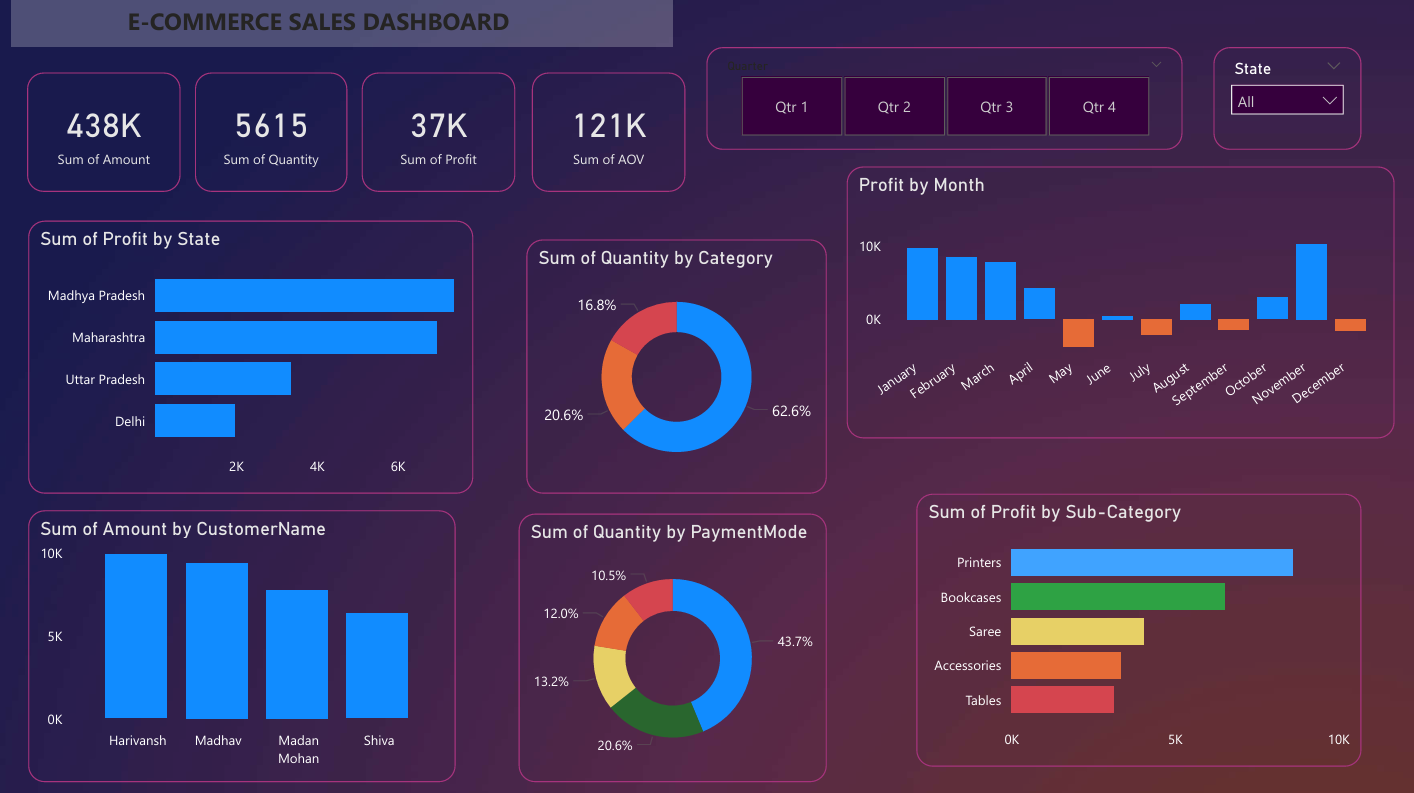

This screenshot's page, from the dashboard's own definition file:
{"tool":"powerbi","page":{"name":"Page 1","canvas":[1280,720],"ordinal":0},"visuals":[{"type":"textbox","box":[9.6,0,599.7,42.5],"z":0},{"type":"columnChart","title":"Profit by Month","fields":{"Y":["Details.Profit"],"Category":["Orders.Order Date.Variation.Date Hierarchy.Month"]},"box":[765.7,150.9,496.7,245.6],"z":1000},{"type":"barChart","fields":{"Category":["Details.Sub-Category"],"Y":["Details.Profit"]},"box":[828.8,447.3,403.4,247],"z":2000},{"type":"donutChart","fields":{"Category":["Details.Category"],"Y":["Details.Quantity"]},"box":[476.2,216.8,271.7,230.5],"z":3000},{"type":"donutChart","fields":{"Y":["Details.Quantity"],"Category":["Details.PaymentMode"]},"box":[469.3,465.2,278.6,242.9],"z":4000},{"type":"card","fields":{"Values":["Details.Amount"]},"box":[24.3,65.7,138.6,108.6],"z":5000},{"type":"card","fields":{"Values":["Details.Quantity"]},"box":[175.7,65.7,138.6,108.6],"z":6000},{"type":"card","fields":{"Values":["Details.Profit"]},"box":[327.1,65.7,138.6,108.6],"z":7000},{"type":"card","fields":{"Values":["Details.AOV"]},"box":[481.4,65.7,138.6,108.6],"z":8000},{"type":"barChart","fields":{"Y":["Details.Profit"],"Category":["Orders.State"]},"box":[24.7,200.3,403.4,247],"z":9000},{"type":"columnChart","fields":{"Category":["Orders.CustomerName"],"Y":["Details.Amount"]},"box":[24.7,462.4,387,245.6],"z":10000},{"type":"slicer","fields":{"Values":["Orders.State"]},"box":[1097.8,42.5,134.5,93.3],"z":11000},{"type":"slicer","fields":{"Values":["Orders.Order Date.Variation.Date Hierarchy.Quarter"]},"box":[639.5,42.5,430.9,93.3],"z":12000}]}

Visuals, with their boxes in screenshot pixels (x1, y1, x2, y2), scaled from the page's 1280x720 canvas onto the 1414x793 screenshot:
textbox: (left=11, top=0, right=673, bottom=47)
"Profit by Month" columnChart: (left=846, top=166, right=1395, bottom=437)
barChart - Details.Sub-Category x Details.Profit: (left=916, top=493, right=1361, bottom=765)
donutChart - Details.Category x Details.Quantity: (left=526, top=239, right=826, bottom=493)
donutChart - Details.Quantity x Details.PaymentMode: (left=518, top=512, right=826, bottom=780)
card - Details.Amount: (left=27, top=72, right=180, bottom=192)
card - Details.Quantity: (left=194, top=72, right=347, bottom=192)
card - Details.Profit: (left=361, top=72, right=514, bottom=192)
card - Details.AOV: (left=532, top=72, right=685, bottom=192)
barChart - Details.Profit x Orders.State: (left=27, top=221, right=473, bottom=493)
columnChart - Orders.CustomerName x Details.Amount: (left=27, top=509, right=455, bottom=780)
slicer - Orders.State: (left=1213, top=47, right=1361, bottom=150)
slicer - Orders.Order Date.Variation.Date Hierarchy.Quarter: (left=706, top=47, right=1182, bottom=150)
